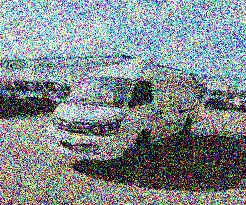van: (41, 58, 204, 173)
